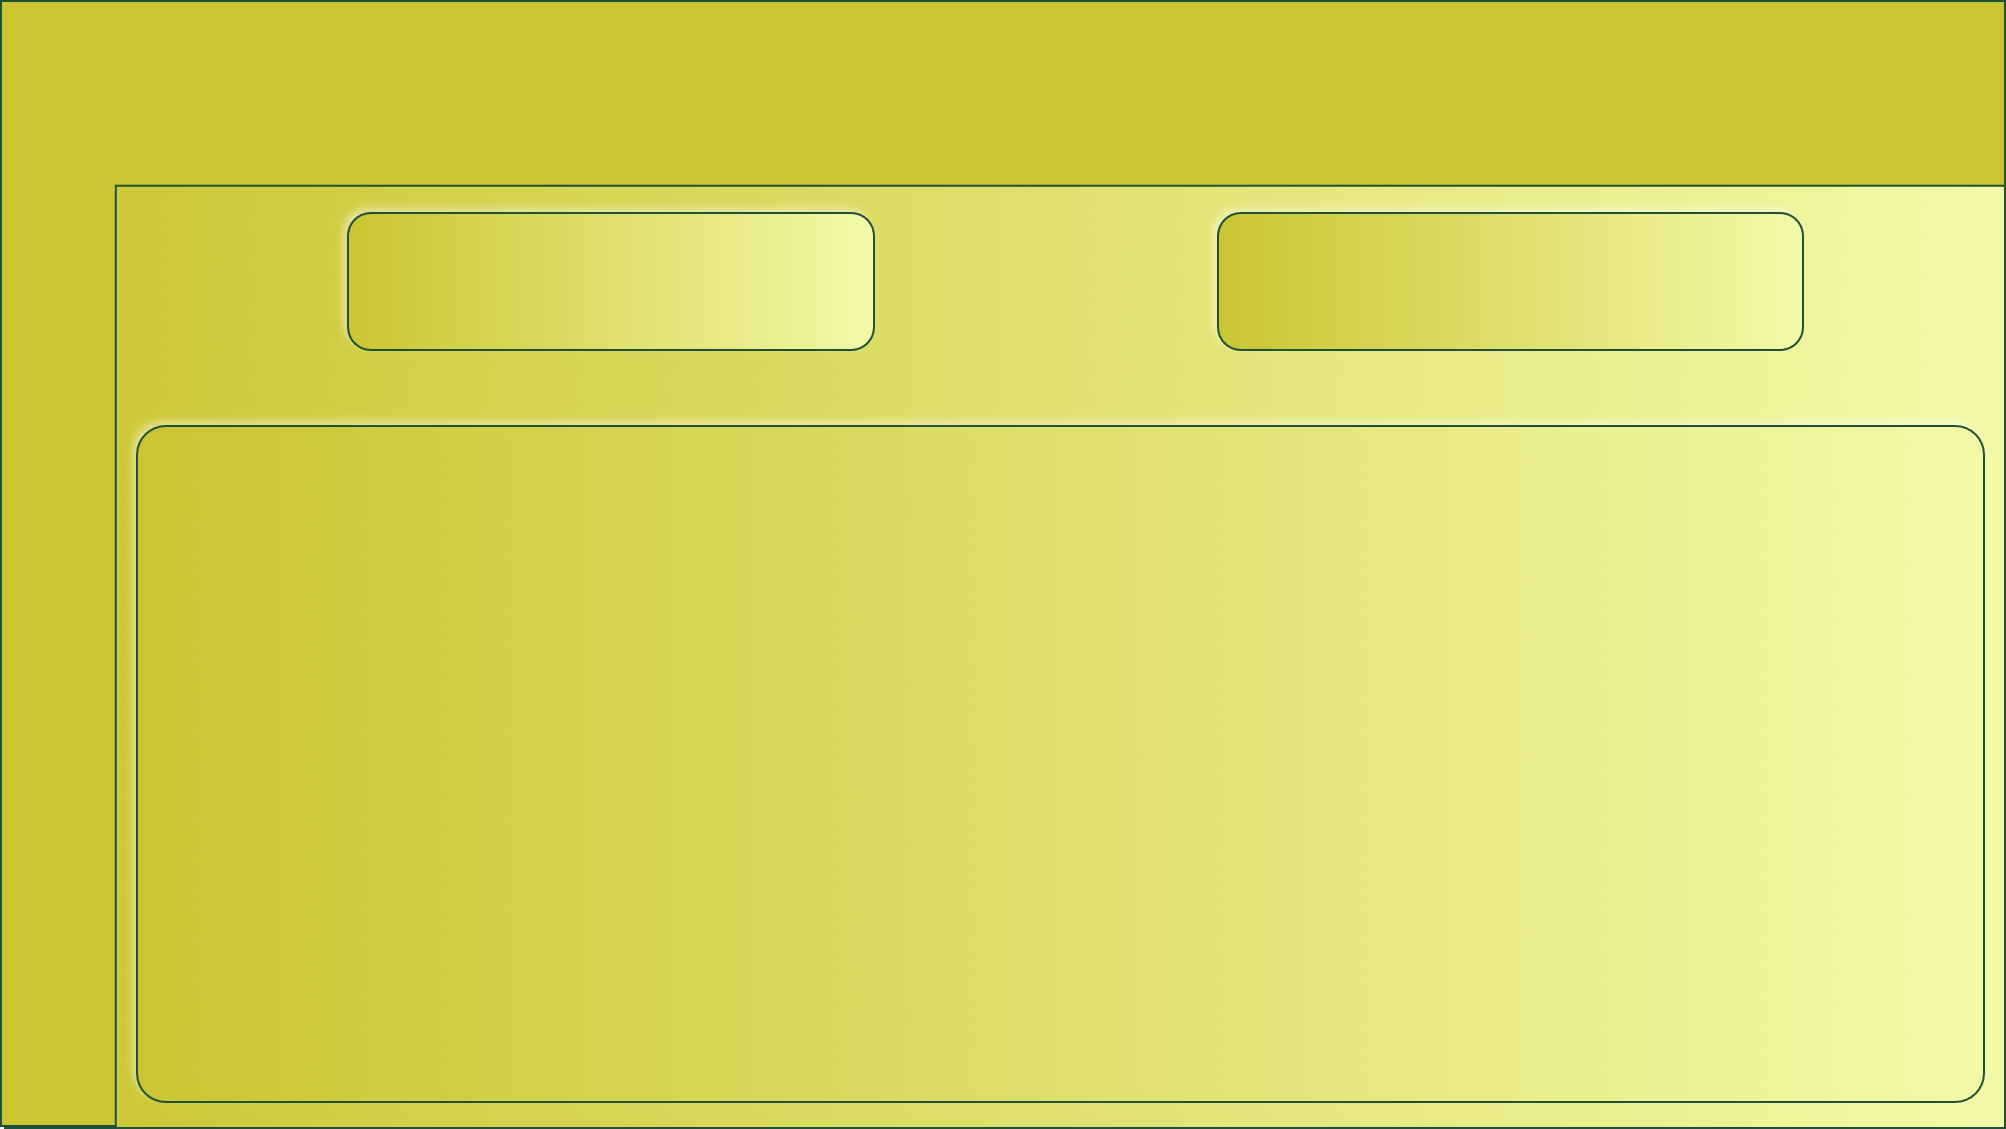

This screenshot's page, from the dashboard's own definition file:
{"tool":"powerbi","page":{"name":"Página Inicial","canvas":[1280,720],"ordinal":2},"visuals":[{"type":"image","box":[262.2,396.9,194.2,194.2],"z":0},{"type":"image","box":[844.7,375.6,215.4,215.4],"z":1000},{"type":"textbox","box":[107.4,615.8,505.3,104.4],"z":2000},{"type":"textbox","box":[700.2,615.1,503.1,70.9],"z":3000},{"type":"image","box":[321.7,72.3,582.5,172.9],"z":4000}]}

Visuals, with their boxes in screenshot pixels (x1, y1, x2, y2), scaled from the page's 1280x720 canvas onto the 2006x1129 screenshot:
image: x1=411, y1=622, x2=715, y2=927
image: x1=1324, y1=589, x2=1661, y2=927
textbox: x1=168, y1=966, x2=960, y2=1128
textbox: x1=1097, y1=965, x2=1886, y2=1076
image: x1=504, y1=113, x2=1417, y2=384
